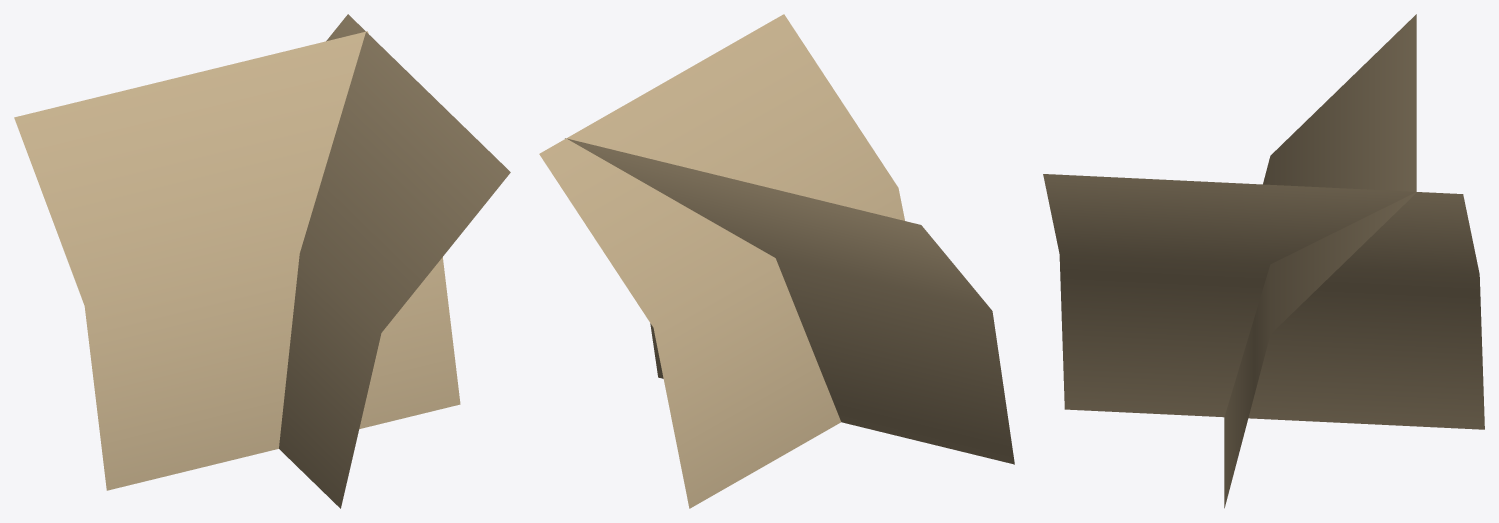
The model's file is GrassPlanes_b_TwoS_01.fbx.
3 renders of one model, left to right at view 1: azimuth 30°, elevation 25°; view 2: azimuth 150°, elevation 25°; view 3: azimuth 270°, elevation 25°, orthographic. The views are drawn at different scales.
Visible parts, largest first — view 1: GrassPlanes_b_TwoS_01; view 2: GrassPlanes_b_TwoS_01; view 3: GrassPlanes_b_TwoS_01.
Part boxes in pixels (x1,y1,x2,y2): GrassPlanes_b_TwoS_01: (14,14,510,508); GrassPlanes_b_TwoS_01: (539,14,1014,508); GrassPlanes_b_TwoS_01: (1043,14,1484,508).
Size of the model in its own units: 72.57 by 59.41 by 75.23.
